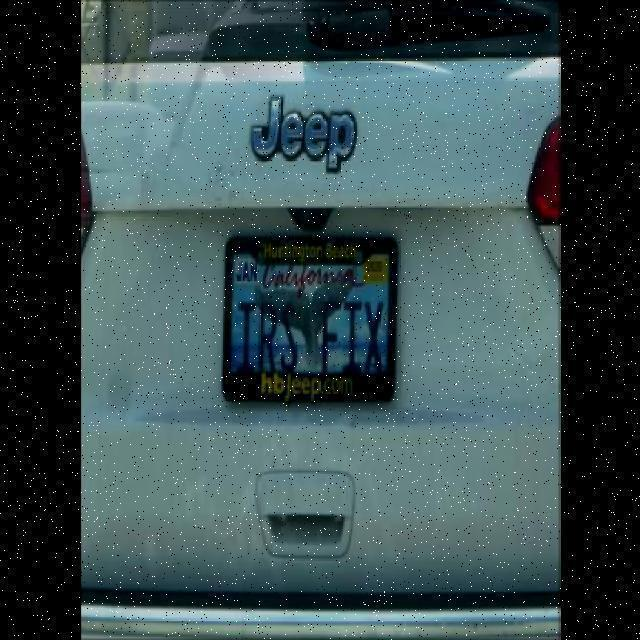License Plate: (224, 236, 400, 400)
